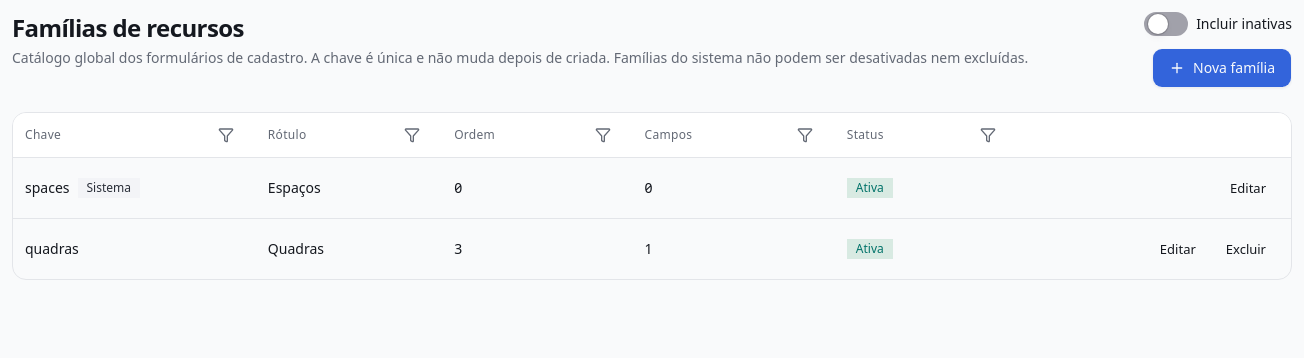
Test: AdminAssetFamiliesPage › loads the active catalog and can include inactive families
Expected: the text "Quadras" is shown, [256, 218, 442, 278]
Expected: the text "Espaços" is shown, [256, 157, 442, 218]
What coordinates should you click on to do the following:
click the switch named "Incluir inativas"
I would click on:
 (1166, 24)
Its box is [1144, 12, 1188, 36].
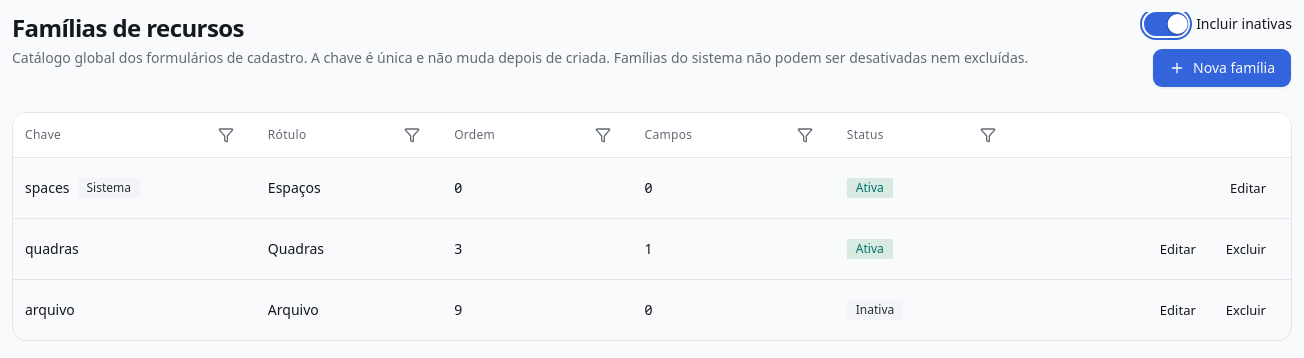
Now the text "Arquivo" is shown, box [256, 279, 442, 340]
